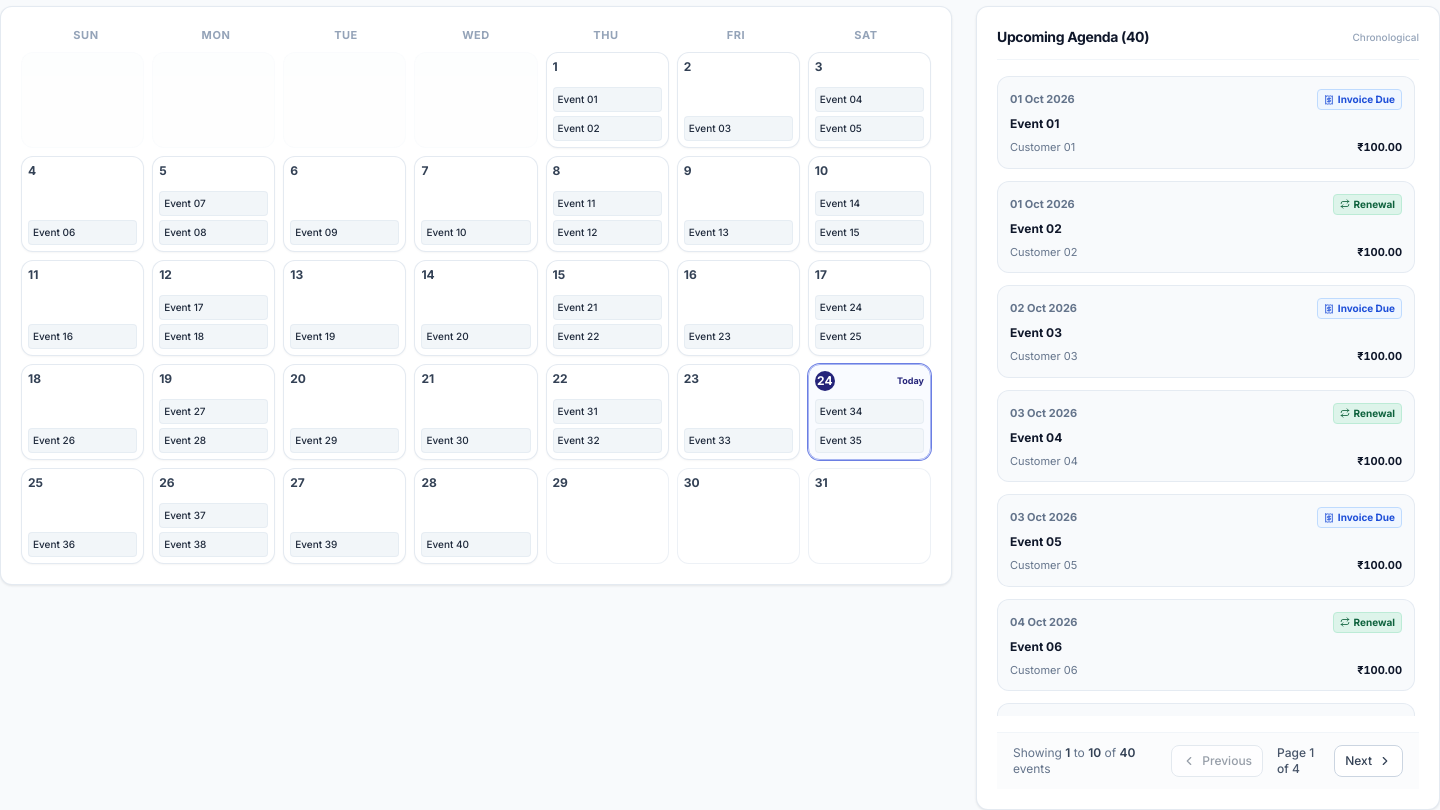
BillingCalendarPage agenda pagination › shows the next page when Next is clicked
The width and height of the screenshot is (1440, 810).
(page scrolled)
Step 1. Click the button "Next" → click(1369, 761), box [1334,745,1403,777]
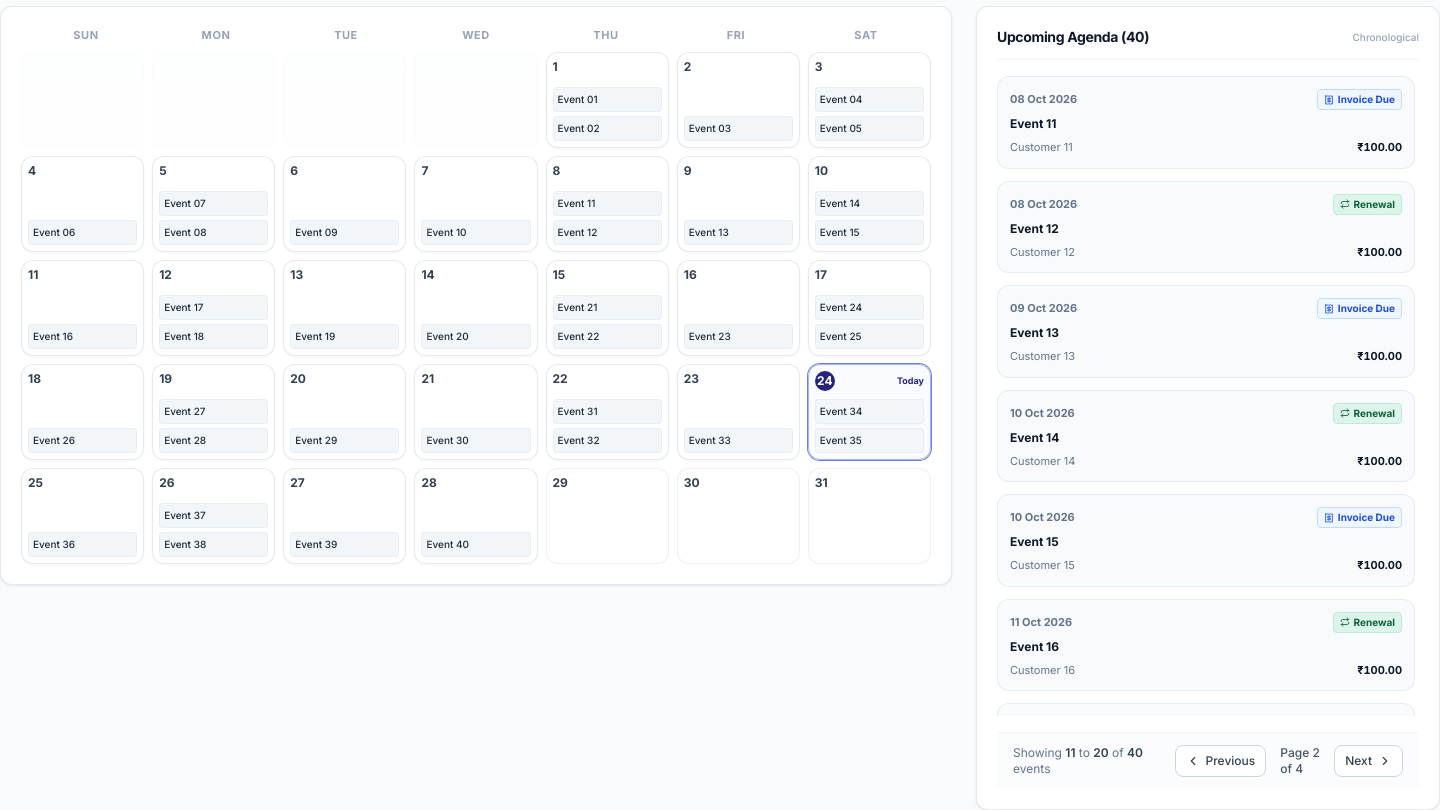
Expected: the heading "Event 11" is shown, [1010,116,1056,131]
Expected: the text "Page 2 of 4" is shown, [1280,745,1320,776]
